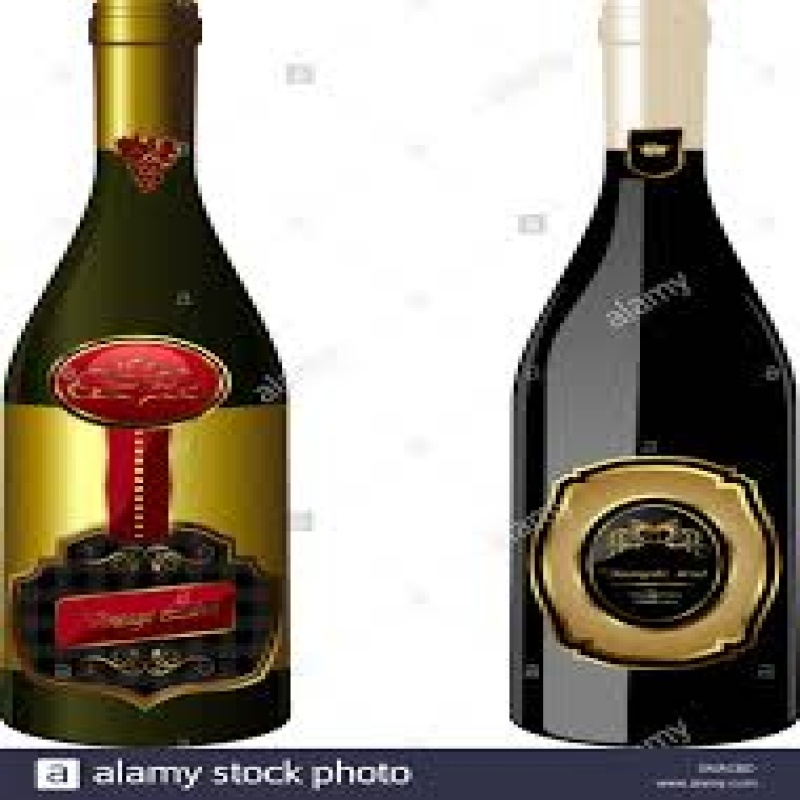wine: (1, 8, 297, 736), (512, 22, 791, 747)
